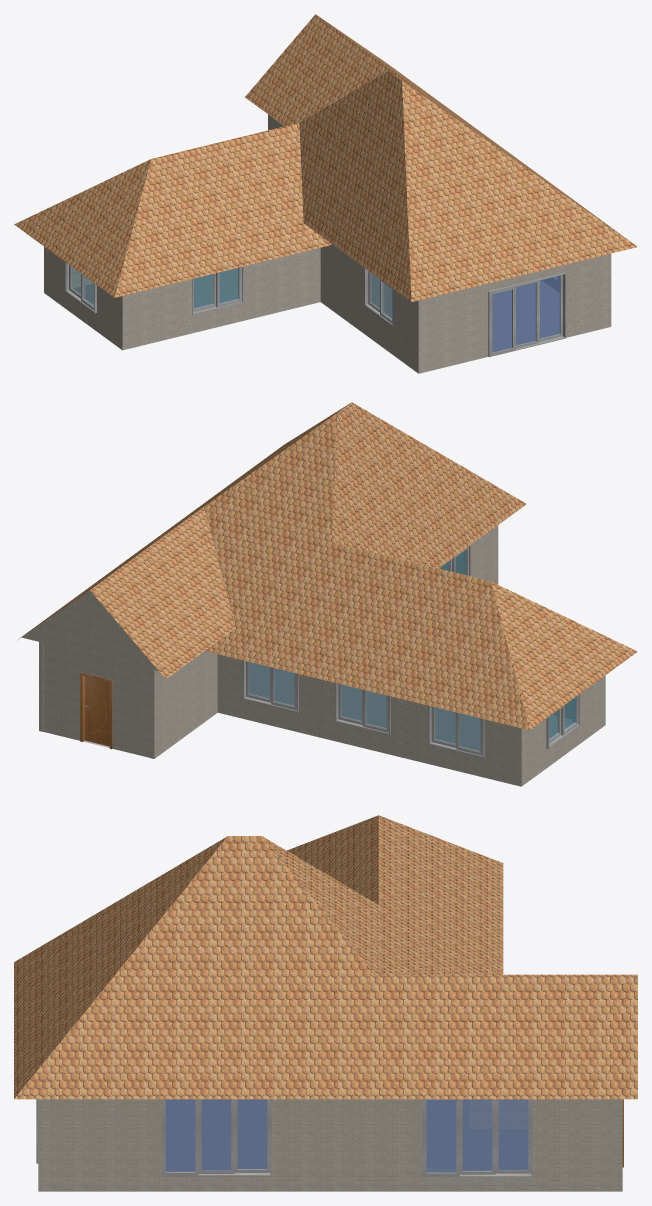
The model's file is telhado46.gltf.
3 views of the same model, one above another, from view 1: azimuth 30°, elevation 25°; view 2: azimuth 150°, elevation 25°; view 3: azimuth 270°, elevation 25° (orthographic). The views are drawn at different scales.
Visible parts, largest first — view 1: root; view 2: root; view 3: root.
Part boxes in pixels (box(x1,y1,x2,y2)): root: box(14, 14, 637, 373); root: box(18, 402, 637, 786); root: box(14, 815, 637, 1191).
Size of the model in its own units: 15.07 by 7.5 by 15.4.
Materials: 14 (7 with a texture image).
